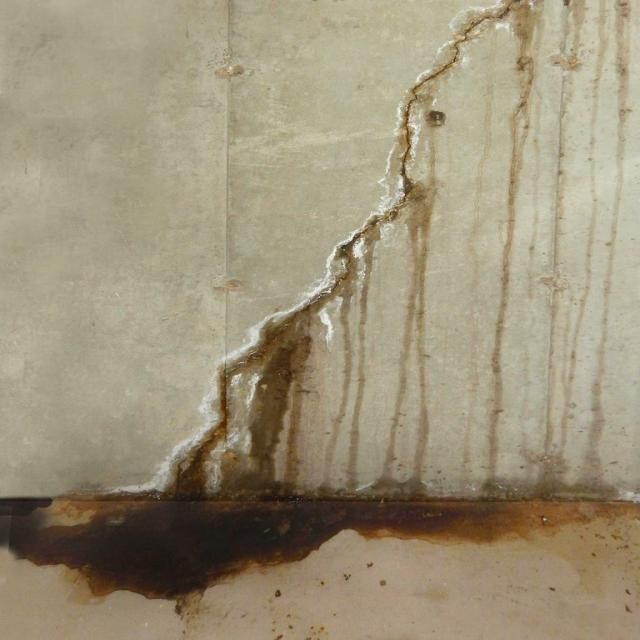Water_Leakage: (8, 4, 640, 600)
